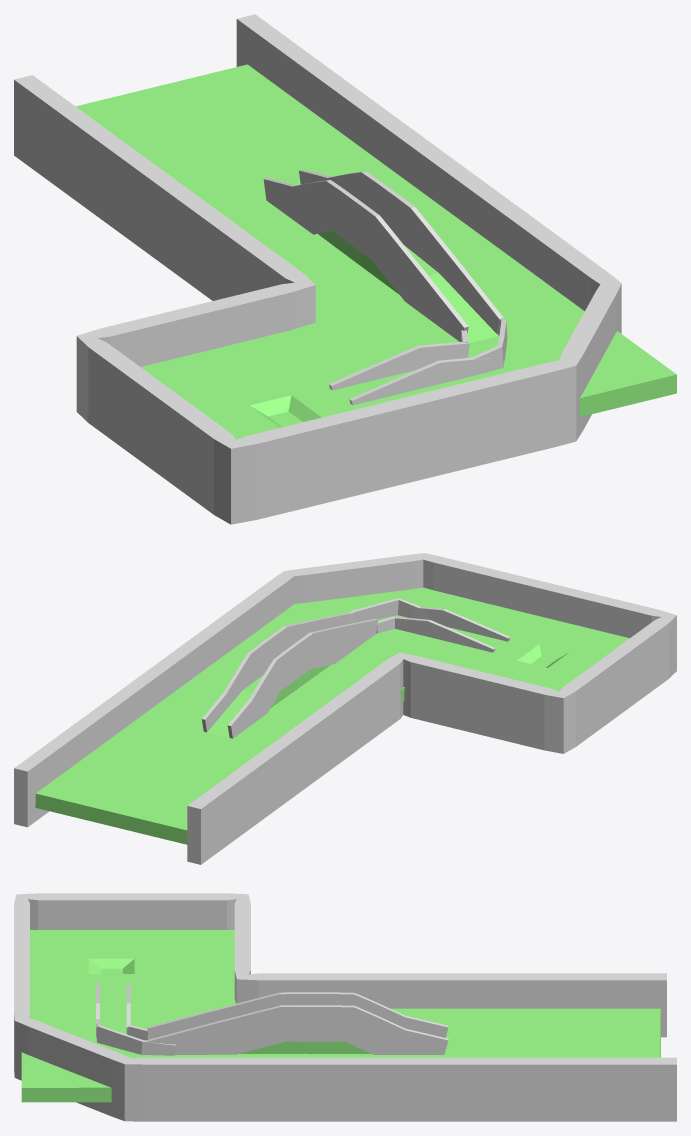
The model's file is level1-col.glb.
3 views of the same model, one above another, from view 1: azimuth 30°, elevation 25°; view 2: azimuth 150°, elevation 25°; view 3: azimuth 270°, elevation 25° (orthographic). The views are drawn at different scales.
Parts seen in each view (by area): view 1: Vert_level1-col, Cube_level1-col, Cube.001_level1-col, Cube.003_level1-col, Cube.004_level1-col; view 2: Vert_level1-col, Cube_level1-col, Cube.001_level1-col, Cube.003_level1-col, Cube.004_level1-col; view 3: Vert_level1-col, Cube_level1-col, Cube.001_level1-col, Cube.004_level1-col, Cube.003_level1-col.
Boxes of the visible parts, left/top/right/bottom form: Vert_level1-col: left=14, top=14, right=621, bottom=524; Cube_level1-col: left=76, top=64, right=676, bottom=439; Cube.001_level1-col: left=263, top=169, right=503, bottom=341; Cube.003_level1-col: left=329, top=342, right=490, bottom=405; Cube.004_level1-col: left=459, top=318, right=507, bottom=371; Vert_level1-col: left=14, top=553, right=676, bottom=864; Cube_level1-col: left=35, top=587, right=629, bottom=844; Cube.001_level1-col: left=201, top=612, right=378, bottom=738; Cube.003_level1-col: left=394, top=606, right=510, bottom=652; Cube.004_level1-col: left=350, top=598, right=429, bottom=633; Vert_level1-col: left=14, top=893, right=676, bottom=1121; Cube_level1-col: left=21, top=930, right=660, bottom=1102; Cube.001_level1-col: left=146, top=992, right=448, bottom=1054; Cube.004_level1-col: left=96, top=1019, right=176, bottom=1055; Cube.003_level1-col: left=96, top=983, right=130, bottom=1036.
Size of the model in its own units: 4.09 by 0.88 by 6.7.
